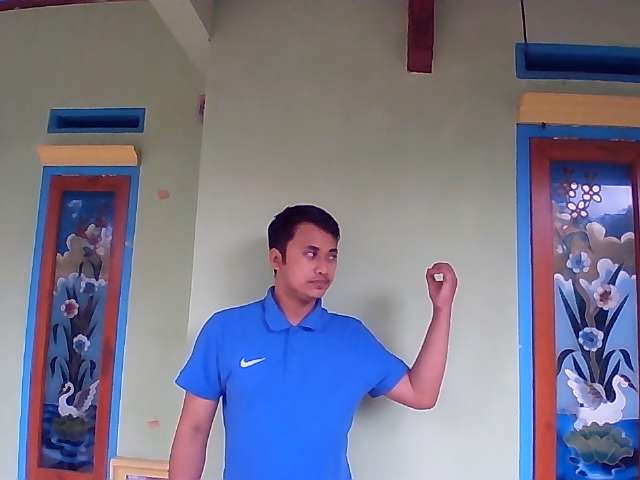O: (424, 260, 461, 309)
